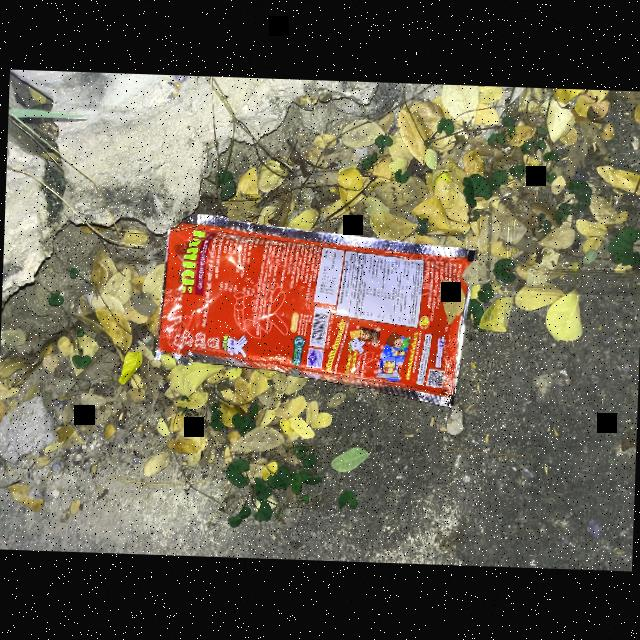snack_bag: (131, 196, 480, 403)
